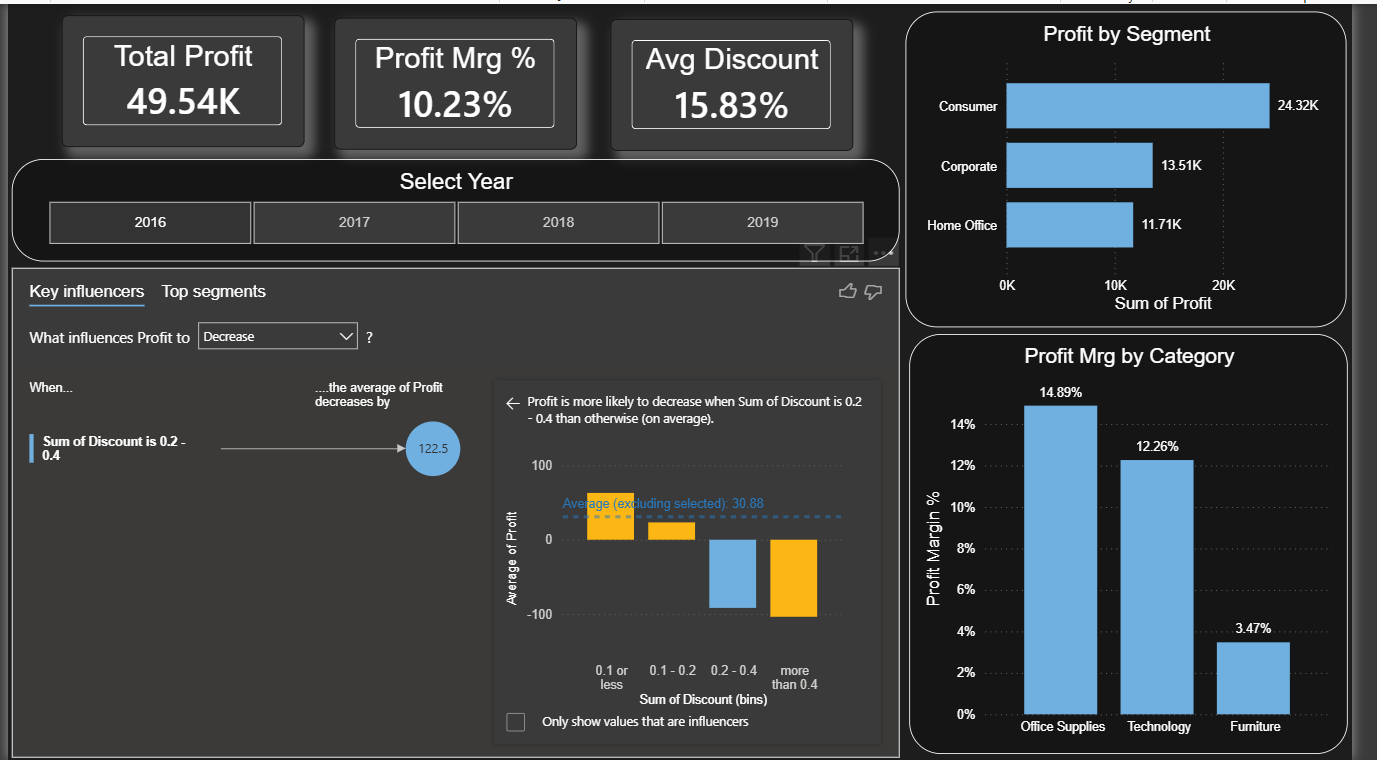

This screenshot's page, from the dashboard's own definition file:
{"tool":"powerbi","page":{"name":"WHY IS LOSS HAPPENING","canvas":[1280,720],"ordinal":5},"visuals":[{"type":"keyDriversVisual","fields":{"ExplainBy":["Sum(superstore_db superstore.Discount)","superstore_db superstore.Category","superstore_db superstore.Segment","superstore_db superstore.Ship_Mode"],"Target":["superstore_db superstore.Profit"]},"box":[3.6,251.2,845.2,466.7],"z":0},{"type":"clusteredColumnChart","title":"Profit Mrg  by Category","fields":{"Category":["superstore_db superstore.Category"],"Y":["superstore_db superstore.Profit Margin %"]},"box":[858.3,314.3,417.9,400],"z":1000},{"type":"barChart","title":"Profit by Segment","fields":{"Category":["superstore_db superstore.Segment"],"Y":["Sum(superstore_db superstore.Profit)"]},"box":[854.8,7.1,420.2,301.2],"z":2000},{"type":"cardVisual","fields":{"Data":["superstore_db superstore.Total Profit"]},"box":[51,11.1,230.9,125.8],"z":3000},{"type":"cardVisual","fields":{"Data":["superstore_db superstore.Profit Margin %"]},"box":[310.5,12.7,230.9,125.8],"z":4000},{"type":"cardVisual","fields":{"Data":["superstore_db superstore.Avg Discount"]},"box":[573.3,14.3,230.9,125.8],"z":5000},{"type":"slicer","title":"Select Year","fields":{"Values":["DateTable.year"]},"box":[3.6,147.6,845.2,97.6],"z":6000}]}

Visuals, with their boxes in screenshot pixels (x1, y1, x2, y2), scaled from the page's 1280x720 canvas onto the 1377x760 screenshot:
keyDriversVisual - Sum(superstore_db superstore.Discount) x superstore_db superstore.Category: <box>4,265,913,758</box>
"Profit Mrg  by Category" clusteredColumnChart: <box>923,332,1373,754</box>
"Profit by Segment" barChart: <box>920,7,1372,325</box>
cardVisual - superstore_db superstore.Total Profit: <box>55,12,303,145</box>
cardVisual - superstore_db superstore.Profit Margin %: <box>334,13,582,146</box>
cardVisual - superstore_db superstore.Avg Discount: <box>617,15,865,148</box>
"Select Year" slicer: <box>4,156,913,259</box>
